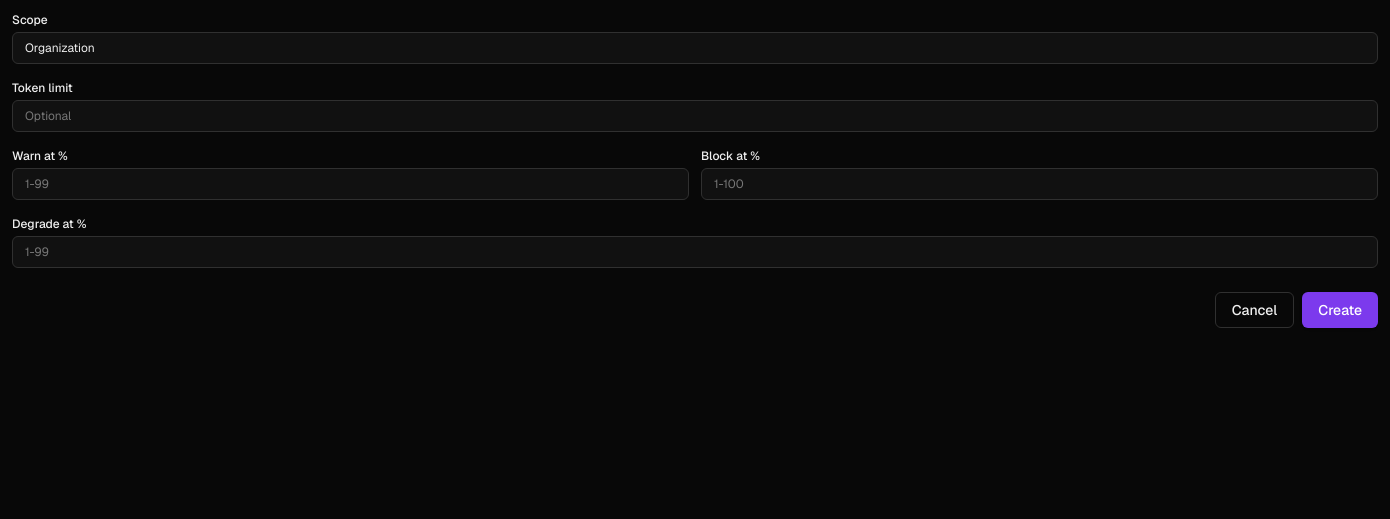
Test: PolicyEditor › degrade > block shows validation error
Type "95" into the number field with placeholder "1-99" below "Degrade at %" at (695, 252), box [12, 236, 1378, 268]
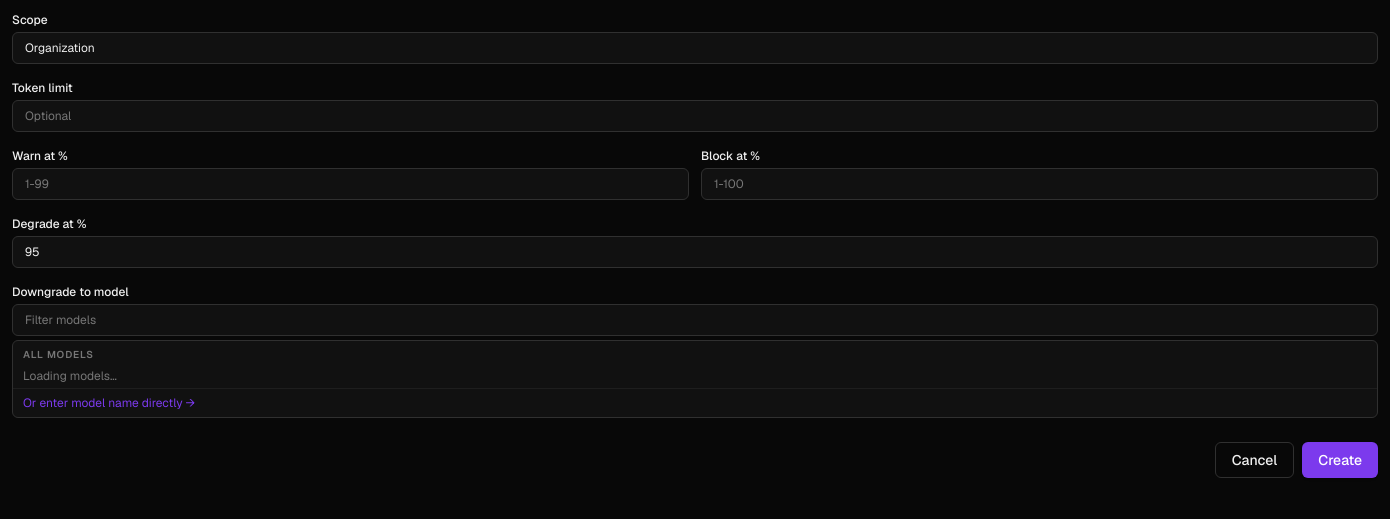
Type "90" into the number field with placeholder "1-100" at (1040, 184), box [701, 168, 1378, 200]
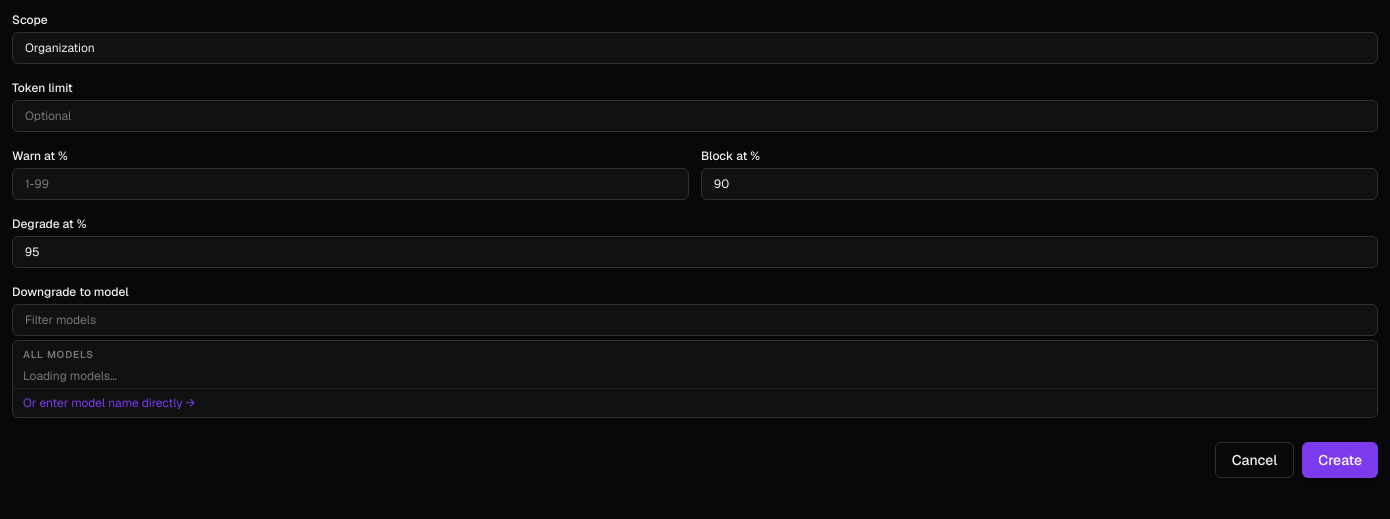
Click the button "Create" at (1340, 460), box [1302, 442, 1378, 478]
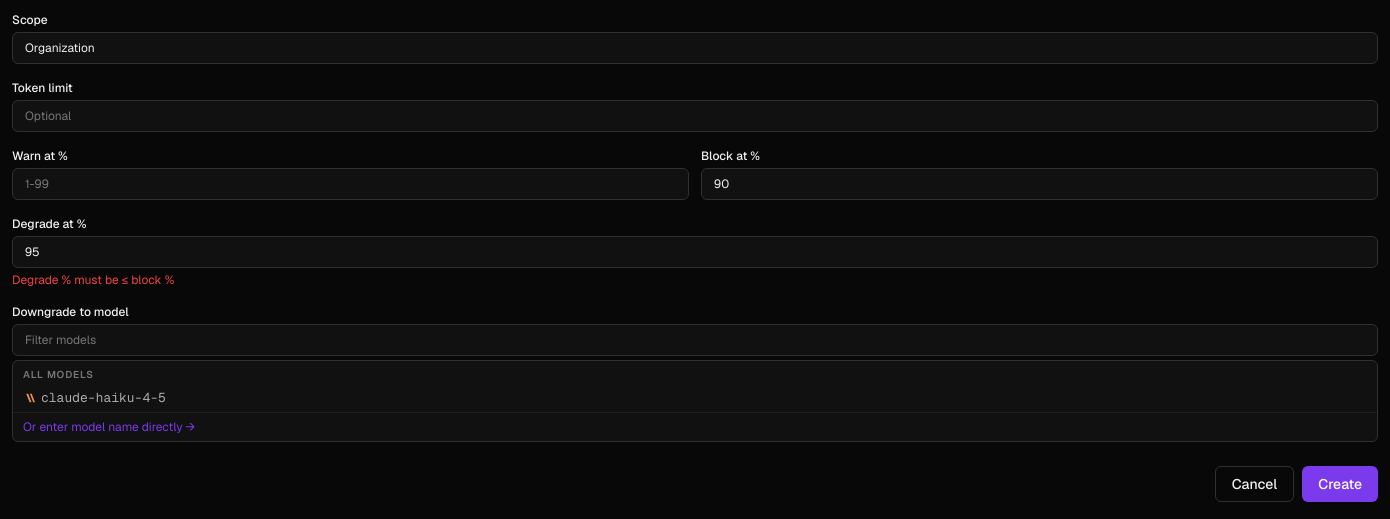
Result: the text "Degrade % must be ≤ block %" is shown at [12, 272, 174, 288]
